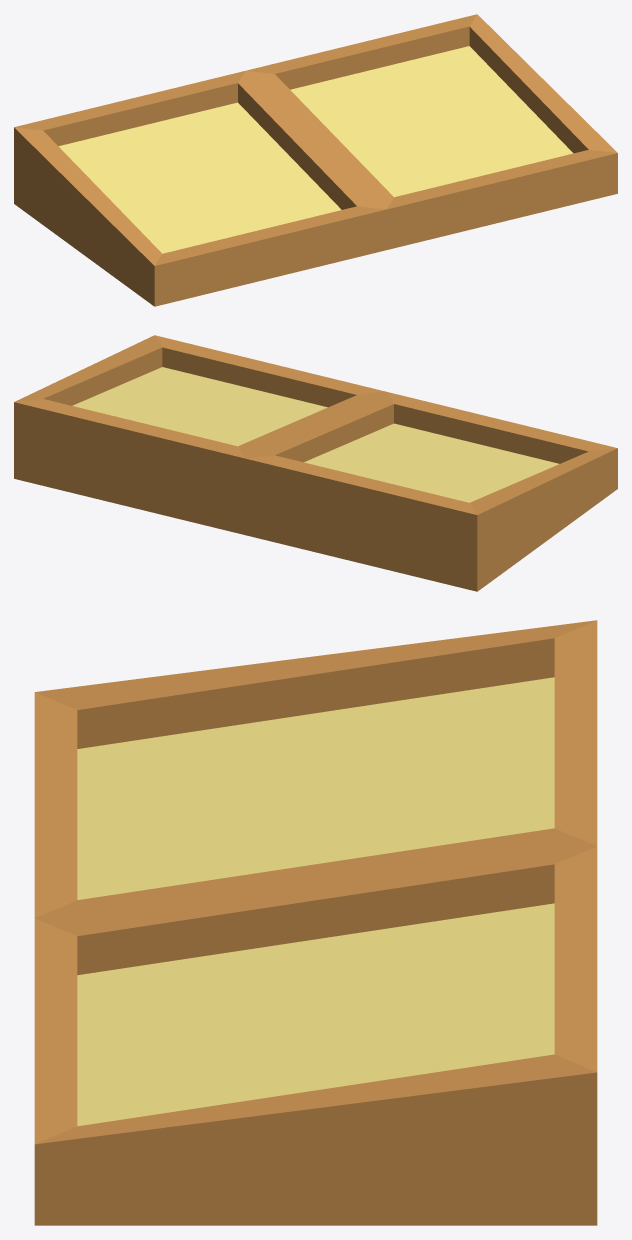
Rendered from Holder2.fbx.
The picture shows the model from 3 angles, top to bottom: view 1: azimuth 30°, elevation 25°; view 2: azimuth 150°, elevation 25°; view 3: azimuth 270°, elevation 25°; orthographic projection. The views are drawn at different scales.
Parts seen in each view (by area): view 1: Holder2; view 2: Holder2; view 3: Holder2.
Boxes of the visible parts, left/top/right/bottom form: Holder2: left=14, top=14, right=617, bottom=306; Holder2: left=14, top=335, right=617, bottom=591; Holder2: left=34, top=620, right=597, bottom=1225.
Bounding box in the file's own units: 5.83 × 3.06 × 0.9209.
